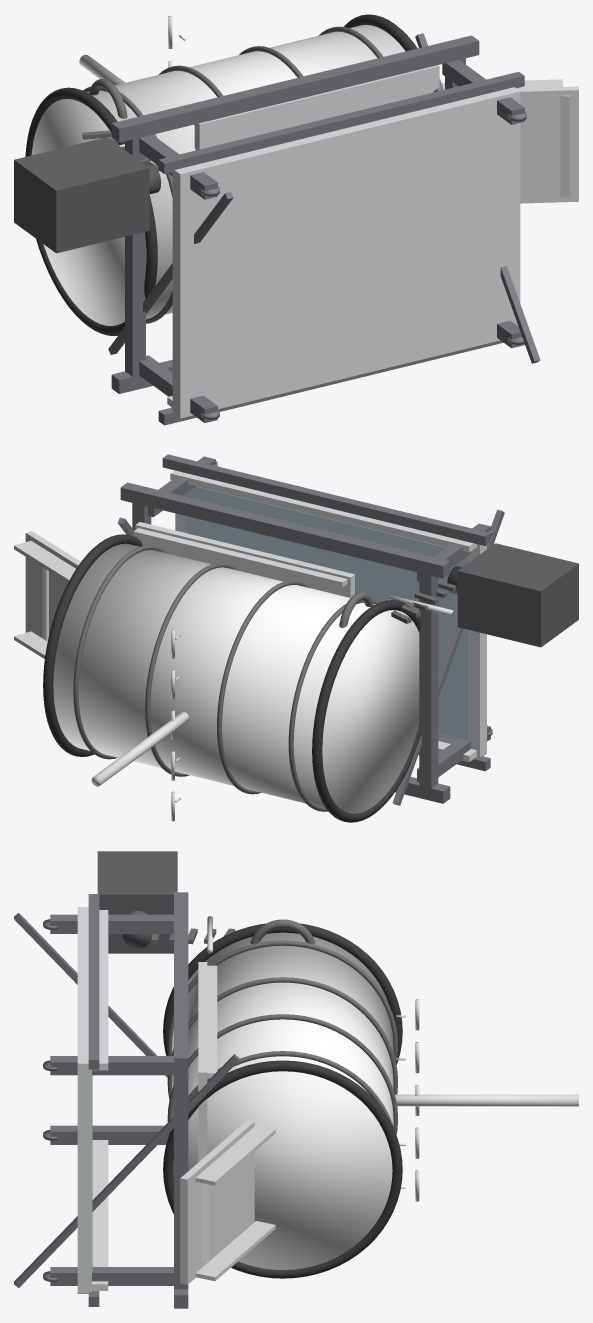
The model's file is barrel-washer.glb.
The picture shows the model from 3 angles, top to bottom: view 1: azimuth 30°, elevation 25°; view 2: azimuth 150°, elevation 25°; view 3: azimuth 270°, elevation 25°; orthographic projection. The views are drawn at different scales.
Visible parts, largest first — view 1: drain_pan, drum_body, motor_housing, frame_rail_front_top, drum_trough, output_chute, frame_rail_front_low, rubber_ring_left, frame_cross_left, frame_rail_back_low, frame_leg_1, cross_brace_1 (+9 smaller); view 2: drum_body, drain_pan, drain_pan_water, motor_housing, frame_rail_front_top, frame_rail_front_low, frame_cross_left, rubber_ring_left, drum_trough, drain_pan_right_wall, rubber_ring_right, output_chute (+14 smaller); view 3: drum_body, output_chute, motor_housing, rubber_ring_right, drain_pan, rubber_ring_left, frame_rail_front_top, frame_cross_right, cross_brace_2, spray_manifold, drain_pan_left_wall, frame_rail_front_low (+16 smaller).
Part boxes in pixels (box(x1,y1,x2,y2)): drain_pan: box(172, 87, 520, 418); drum_body: box(31, 25, 405, 325); motor_housing: box(14, 137, 149, 253); frame_rail_front_top: box(111, 35, 479, 142); drum_trough: box(194, 65, 439, 150); output_chute: box(516, 86, 578, 203); frame_rail_front_low: box(158, 71, 524, 173); rubber_ring_left: box(25, 87, 157, 335); frame_cross_left: box(125, 130, 145, 381); frame_rail_back_low: box(158, 340, 503, 425); frame_leg_1: box(139, 355, 217, 422); cross_brace_1: box(108, 191, 233, 354); drum_body: box(53, 543, 419, 813); drain_pan: box(175, 486, 486, 757); drain_pan_water: box(185, 486, 469, 740); motor_housing: box(457, 543, 578, 647); frame_rail_front_top: box(120, 482, 450, 578); frame_rail_front_low: box(162, 454, 490, 545); frame_cross_left: box(419, 567, 438, 794); rubber_ring_left: box(312, 600, 420, 822); drum_trough: box(135, 522, 354, 597); drain_pan_right_wall: box(170, 470, 476, 552); rubber_ring_right: box(43, 534, 142, 756); output_chute: box(25, 531, 80, 638); drum_body: box(172, 932, 393, 1269); output_chute: box(180, 1120, 254, 1284); motor_housing: box(97, 851, 177, 953); rubber_ring_right: box(163, 1060, 402, 1278); drain_pan: box(77, 907, 91, 1293); rubber_ring_left: box(163, 923, 402, 1064); frame_rail_front_top: box(174, 892, 188, 1071); frame_cross_right: box(174, 1071, 188, 1289); cross_brace_2: box(14, 1054, 239, 1287); spray_manifold: box(395, 1094, 578, 1106); drain_pan_left_wall: box(92, 1140, 108, 1290); frame_rail_front_low: box(88, 894, 99, 1069).
Size of the model in its own units: 3.42 by 1.52 by 3.11.
